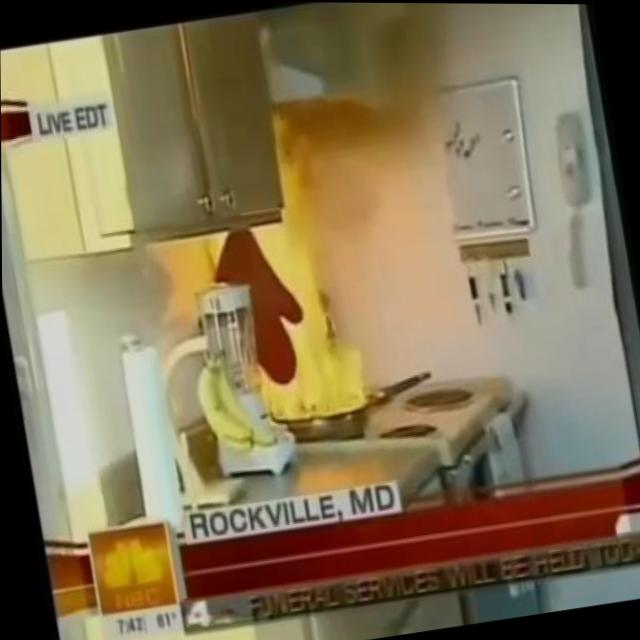fire: (217, 127, 374, 435)
